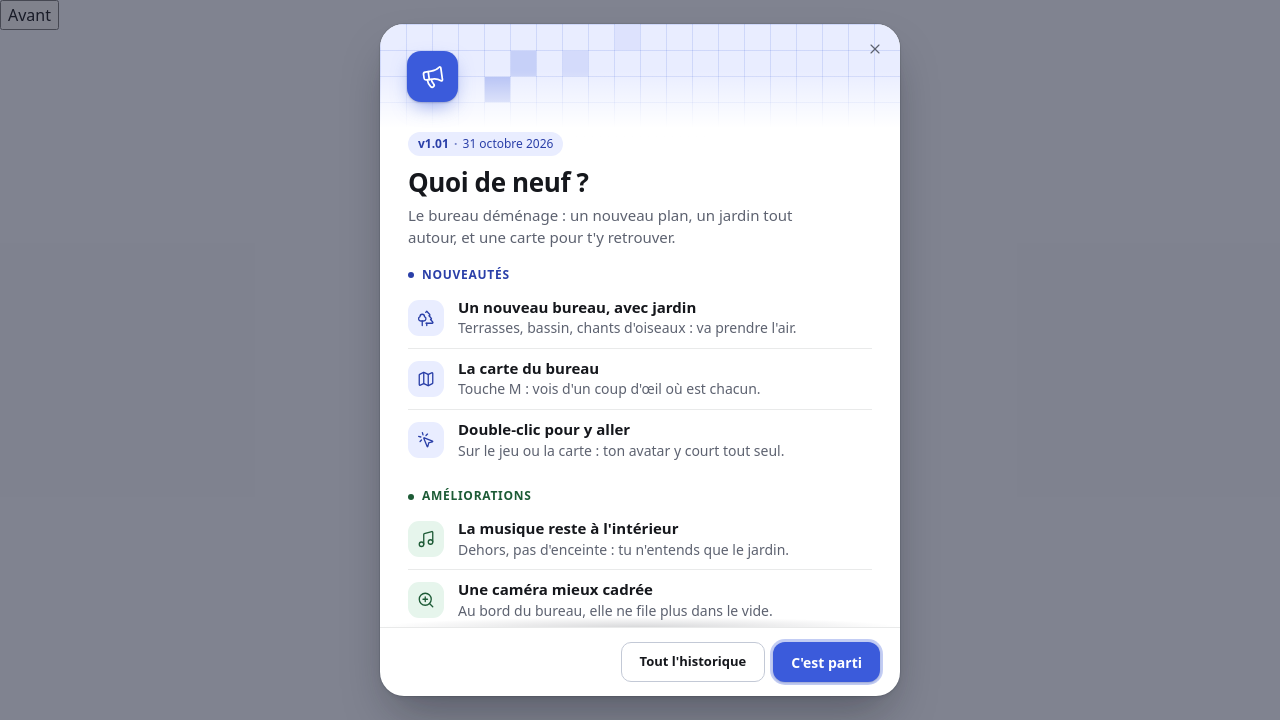
la fenêtre « Quoi de neuf ? » à l'entrée › un compte en retard la voit une fois le bureau en place (pas avant), avec les nouveautés de la version en cours
Expected: the list item that starts with "Un nouveau bureau, avec jardin" is shown, [458,297,696,317]
Step 1. Click the button "Tout l'historique" → click(693, 662), box [621,642,765,682]
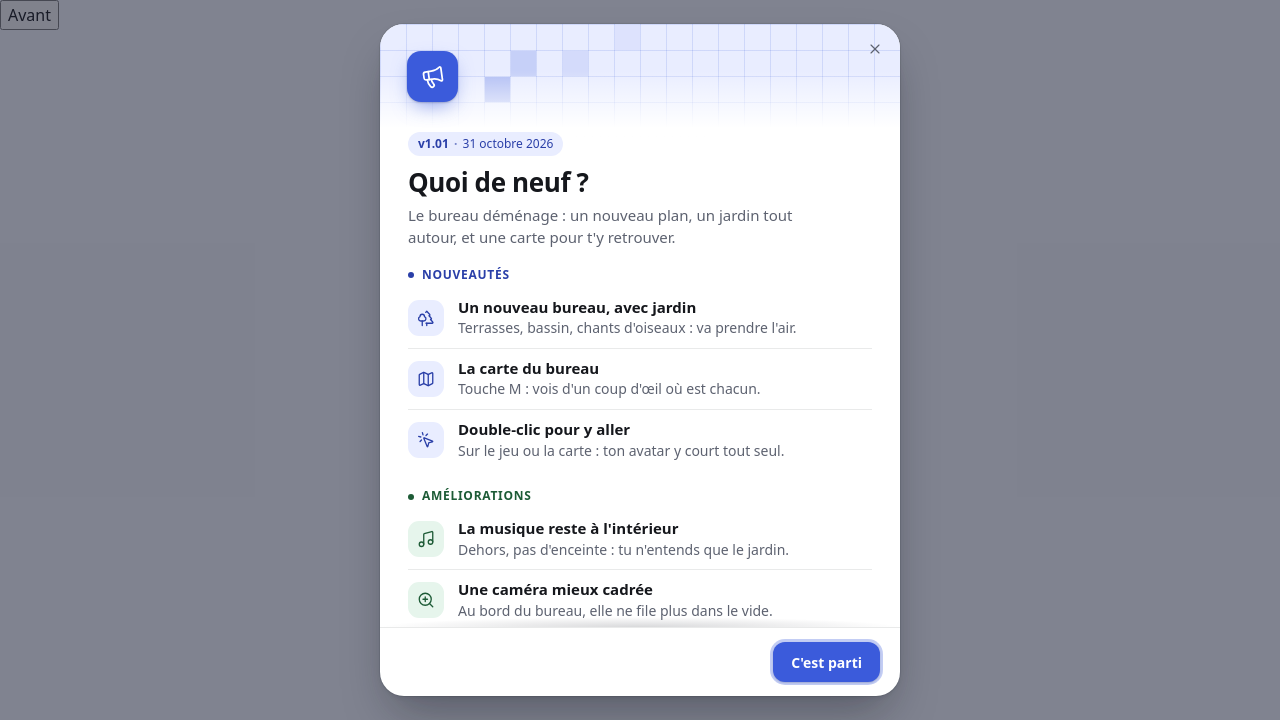
Now the button "Tout l'historique" is gone
